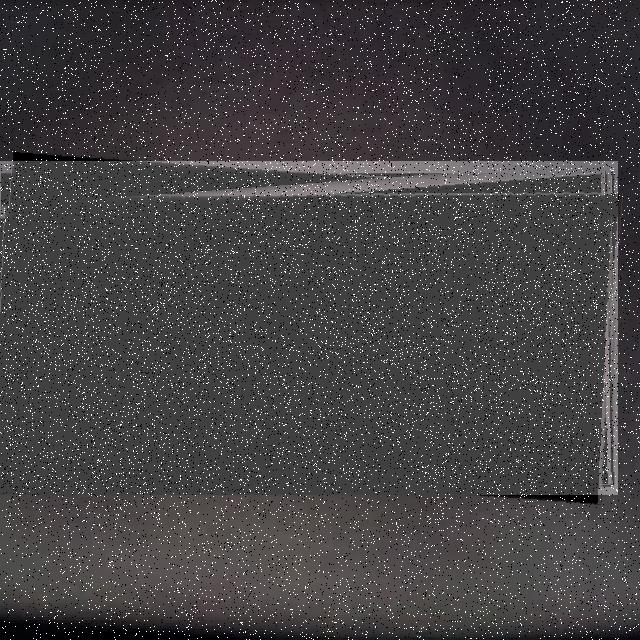dua puluh ribu rupiah: (0, 161, 618, 495)
